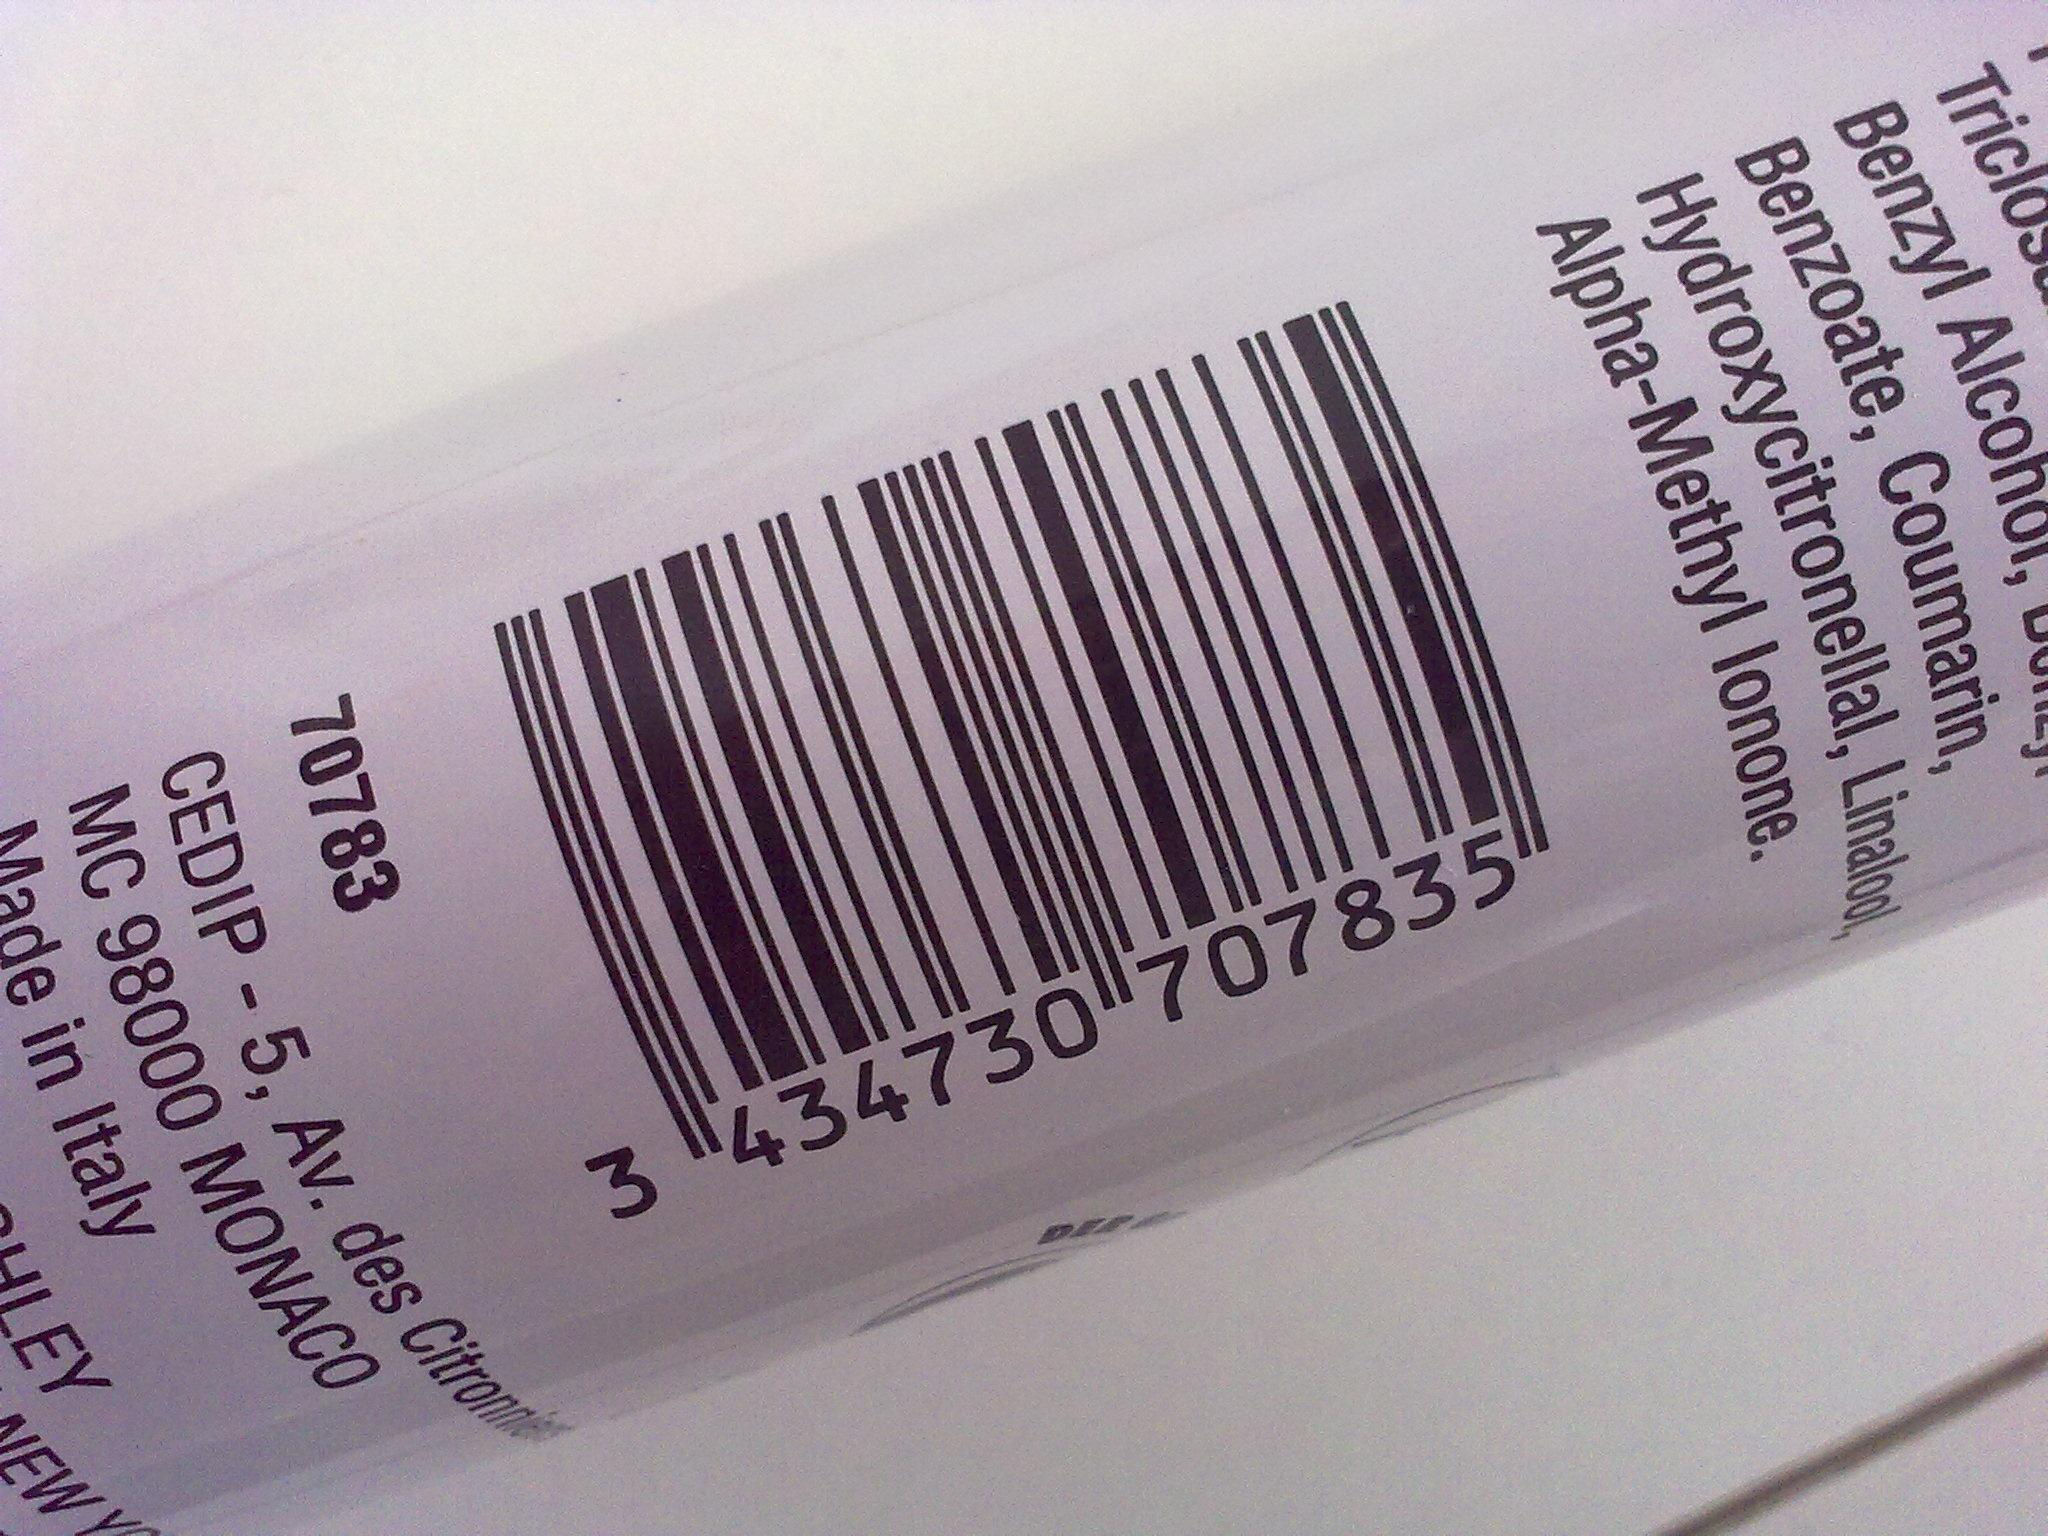Barcode: (482, 300, 1574, 1250)
